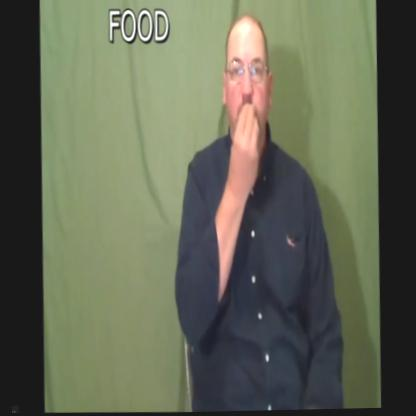Food: (198, 11, 292, 212)
